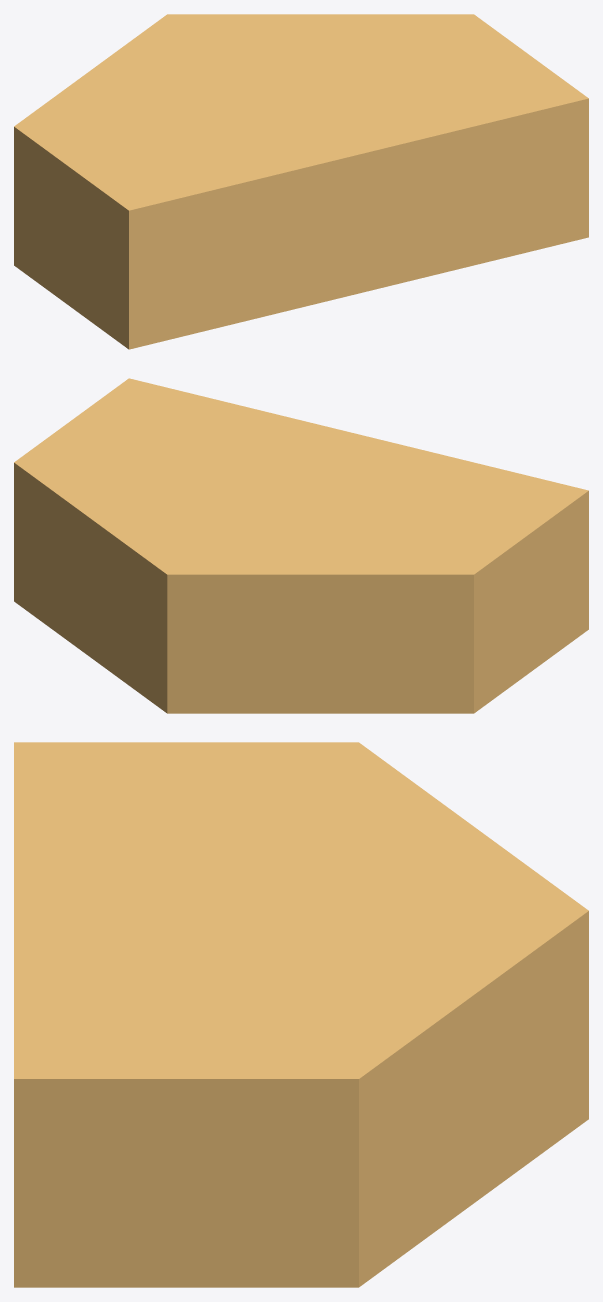
3 renders of one model, top to bottom at view 1: azimuth 30°, elevation 25°; view 2: azimuth 150°, elevation 25°; view 3: azimuth 270°, elevation 25°, orthographic. The views are drawn at different scales.
Parts seen in each view (by area): view 1: WoodenWallHalfFill; view 2: WoodenWallHalfFill; view 3: WoodenWallHalfFill.
Boxes of the visible parts, x1,y1,x2,y2 form: WoodenWallHalfFill: (14, 14, 588, 349); WoodenWallHalfFill: (14, 378, 588, 713); WoodenWallHalfFill: (14, 742, 588, 1287).
Size of the model in its own units: 1.73 by 0.5 by 1.25.
1 material, 1 textured.
